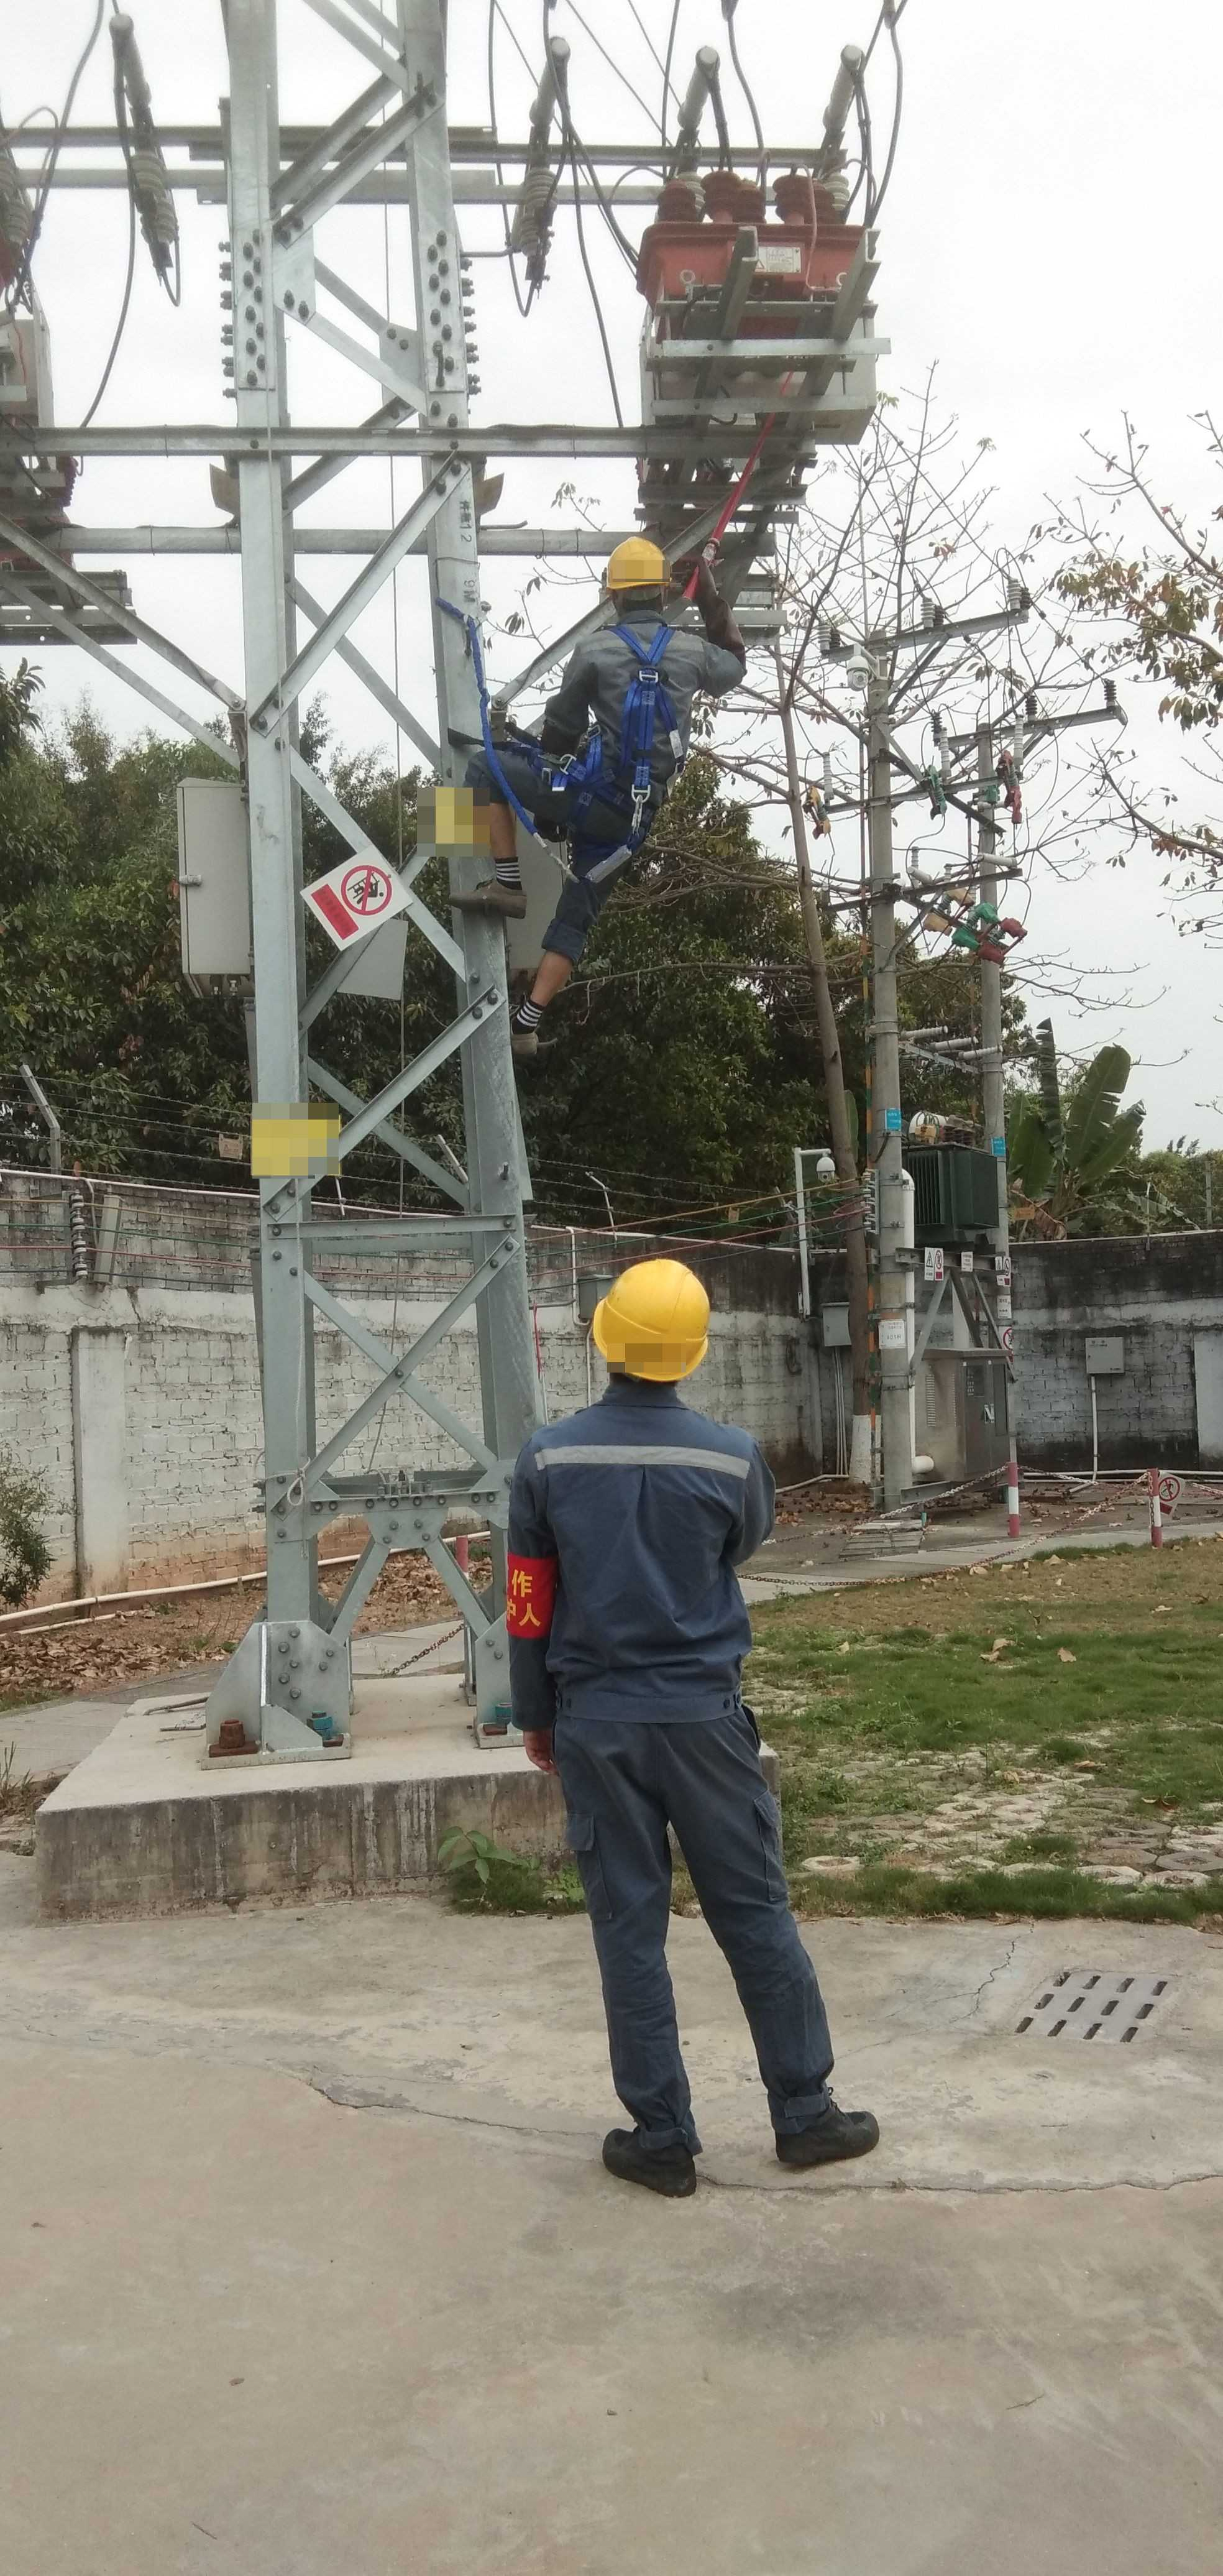downsuit: (550, 1750, 844, 2132), (476, 759, 642, 1004)
upsuit: (492, 1398, 783, 1728), (568, 626, 732, 787)
wrongbottom: (466, 775, 522, 876), (527, 922, 584, 1012)
